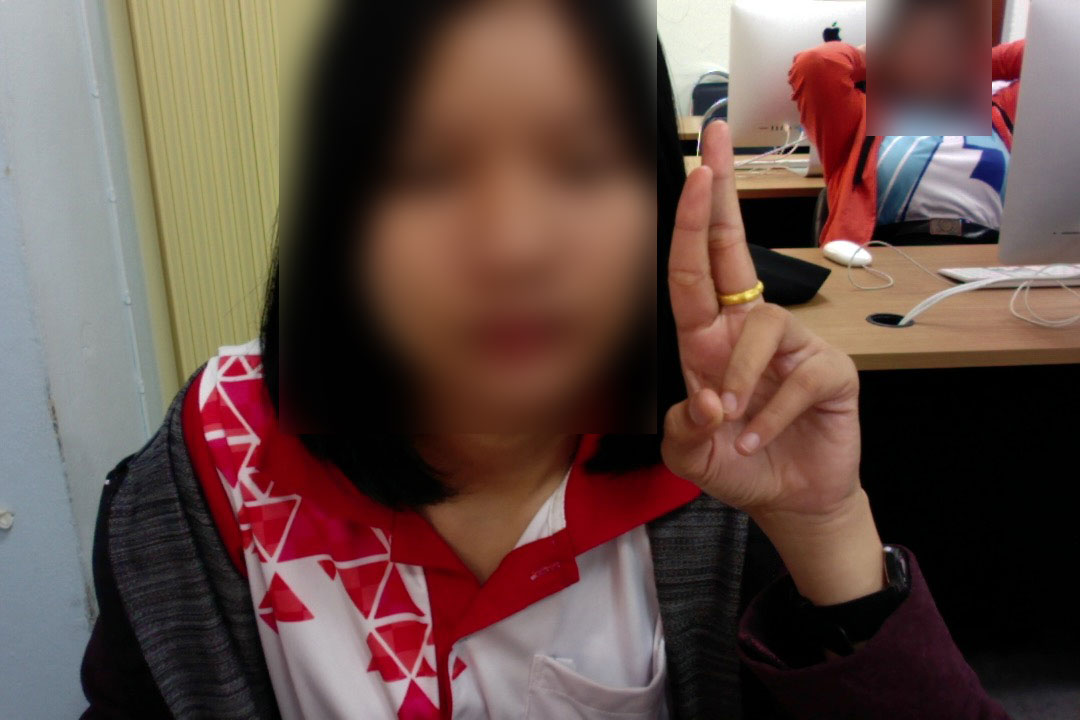rao: (648, 117, 880, 525)
